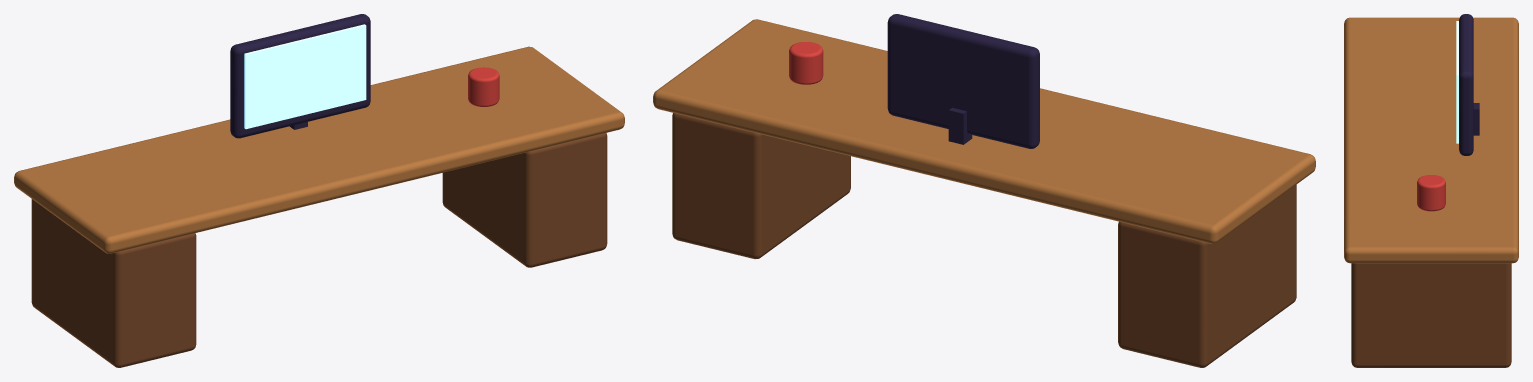
Rendered from desk.glb.
3 renders of one model, left to right at view 1: azimuth 30°, elevation 25°; view 2: azimuth 150°, elevation 25°; view 3: azimuth 270°, elevation 25°, orthographic. The views are drawn at different scales.
Parts seen in each view (by area): view 1: desk; view 2: desk; view 3: desk.
Boxes of the visible parts, x1,y1,x2,y2 form: desk: (14, 14, 624, 367); desk: (653, 14, 1315, 367); desk: (1344, 14, 1518, 367).
Size of the model in its own units: 1.9 by 0.82 by 0.6.
